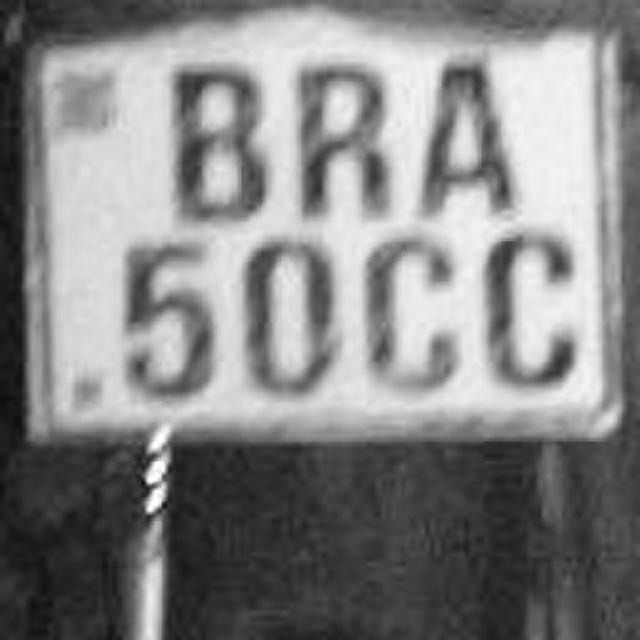0: (220, 216, 355, 404), (472, 216, 596, 409), (345, 220, 480, 395)
5: (96, 220, 232, 405)
A: (396, 44, 532, 236)
B: (148, 44, 288, 236)
R: (276, 44, 409, 236)
